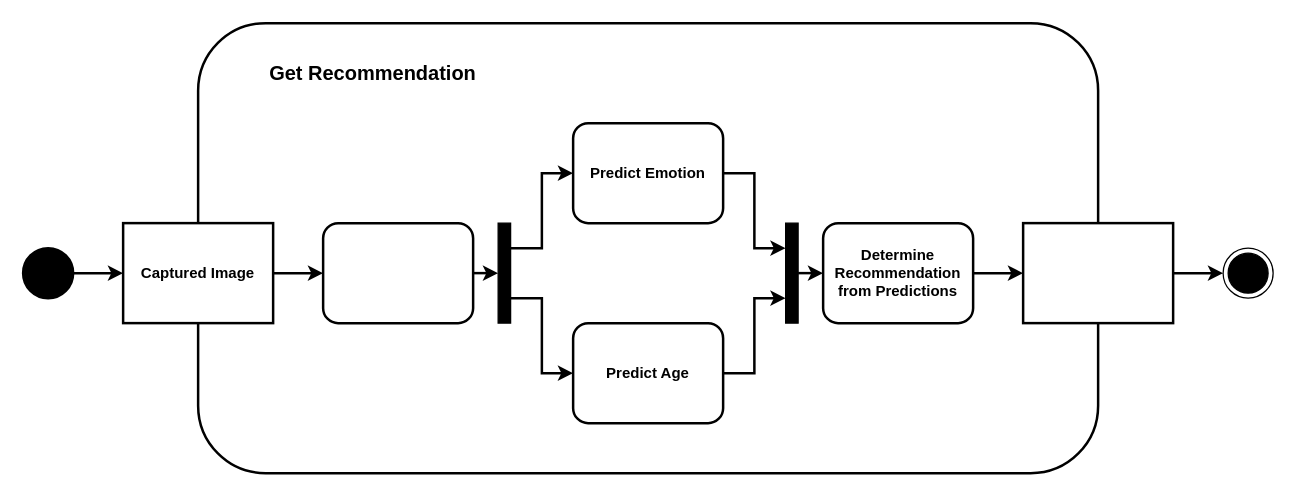
The diagram is 1295 pixels wide and 495 high, and some of its shapes have lost their labels. The shapes that lost their labels are listed below. From the top down, each one's centre as x and y in pixels, then its label:
(397,272): Preprocess Image
(1097,272): Personalized Recommendation
